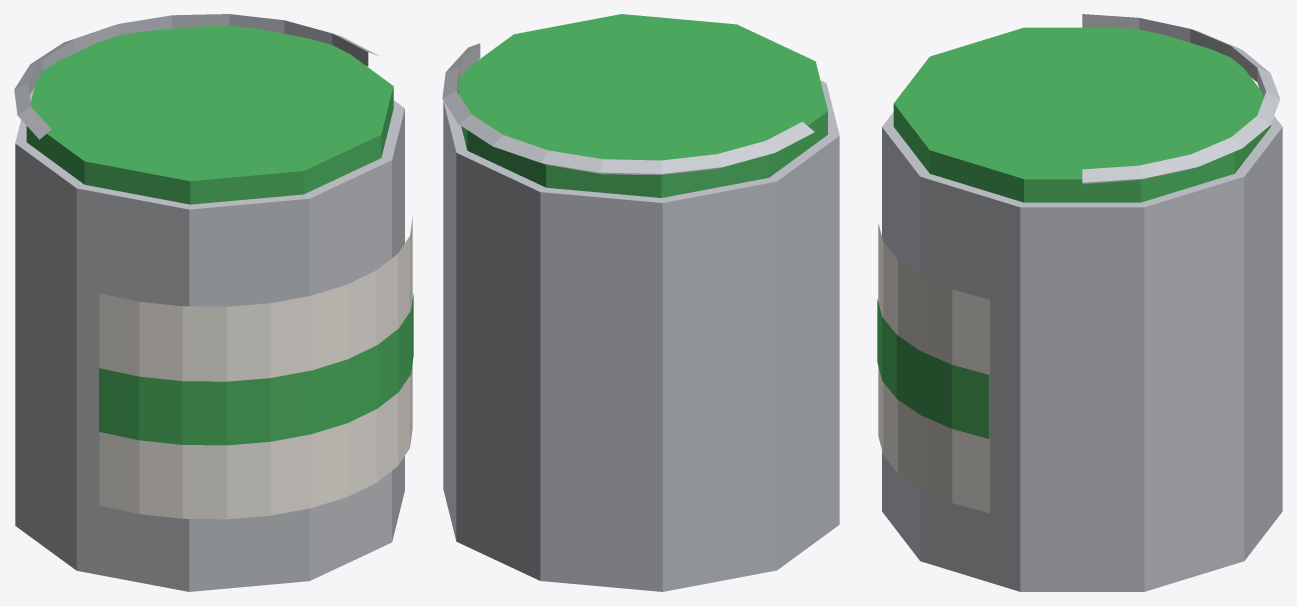
File: paint_can_3.glb
3 renders of one model, left to right at view 1: azimuth 30°, elevation 25°; view 2: azimuth 150°, elevation 25°; view 3: azimuth 270°, elevation 25°, orthographic.
Parts seen in each view (by area): view 1: can_tin, lid, label_paint_label, label, handle_tin; view 2: can_tin, lid, handle_tin; view 3: can_tin, lid, label_paint_label, label, handle_tin.
Part boxes in pixels (x1,y1,x2,y2): can_tin: (15, 89, 404, 591); lid: (26, 25, 393, 204); label_paint_label: (99, 217, 412, 519); label: (99, 293, 413, 445); handle_tin: (14, 14, 378, 139); can_tin: (443, 80, 839, 591); lid: (458, 14, 827, 197); handle_tin: (442, 43, 814, 174); can_tin: (882, 112, 1282, 591); lid: (893, 27, 1270, 202); label_paint_label: (878, 223, 989, 513); label: (877, 299, 989, 438); handle_tin: (1082, 14, 1280, 184).
Bounding box in the file's own units: 0.168 × 0.1965 × 0.172.
